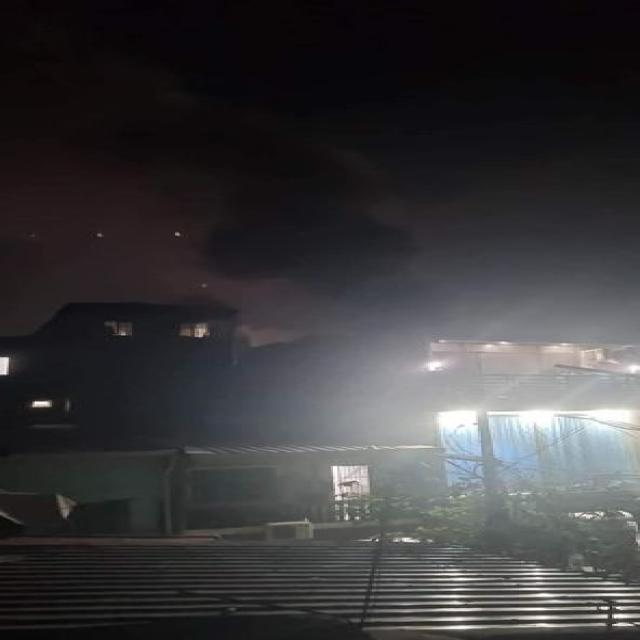Smoke: (39, 66, 468, 330)
